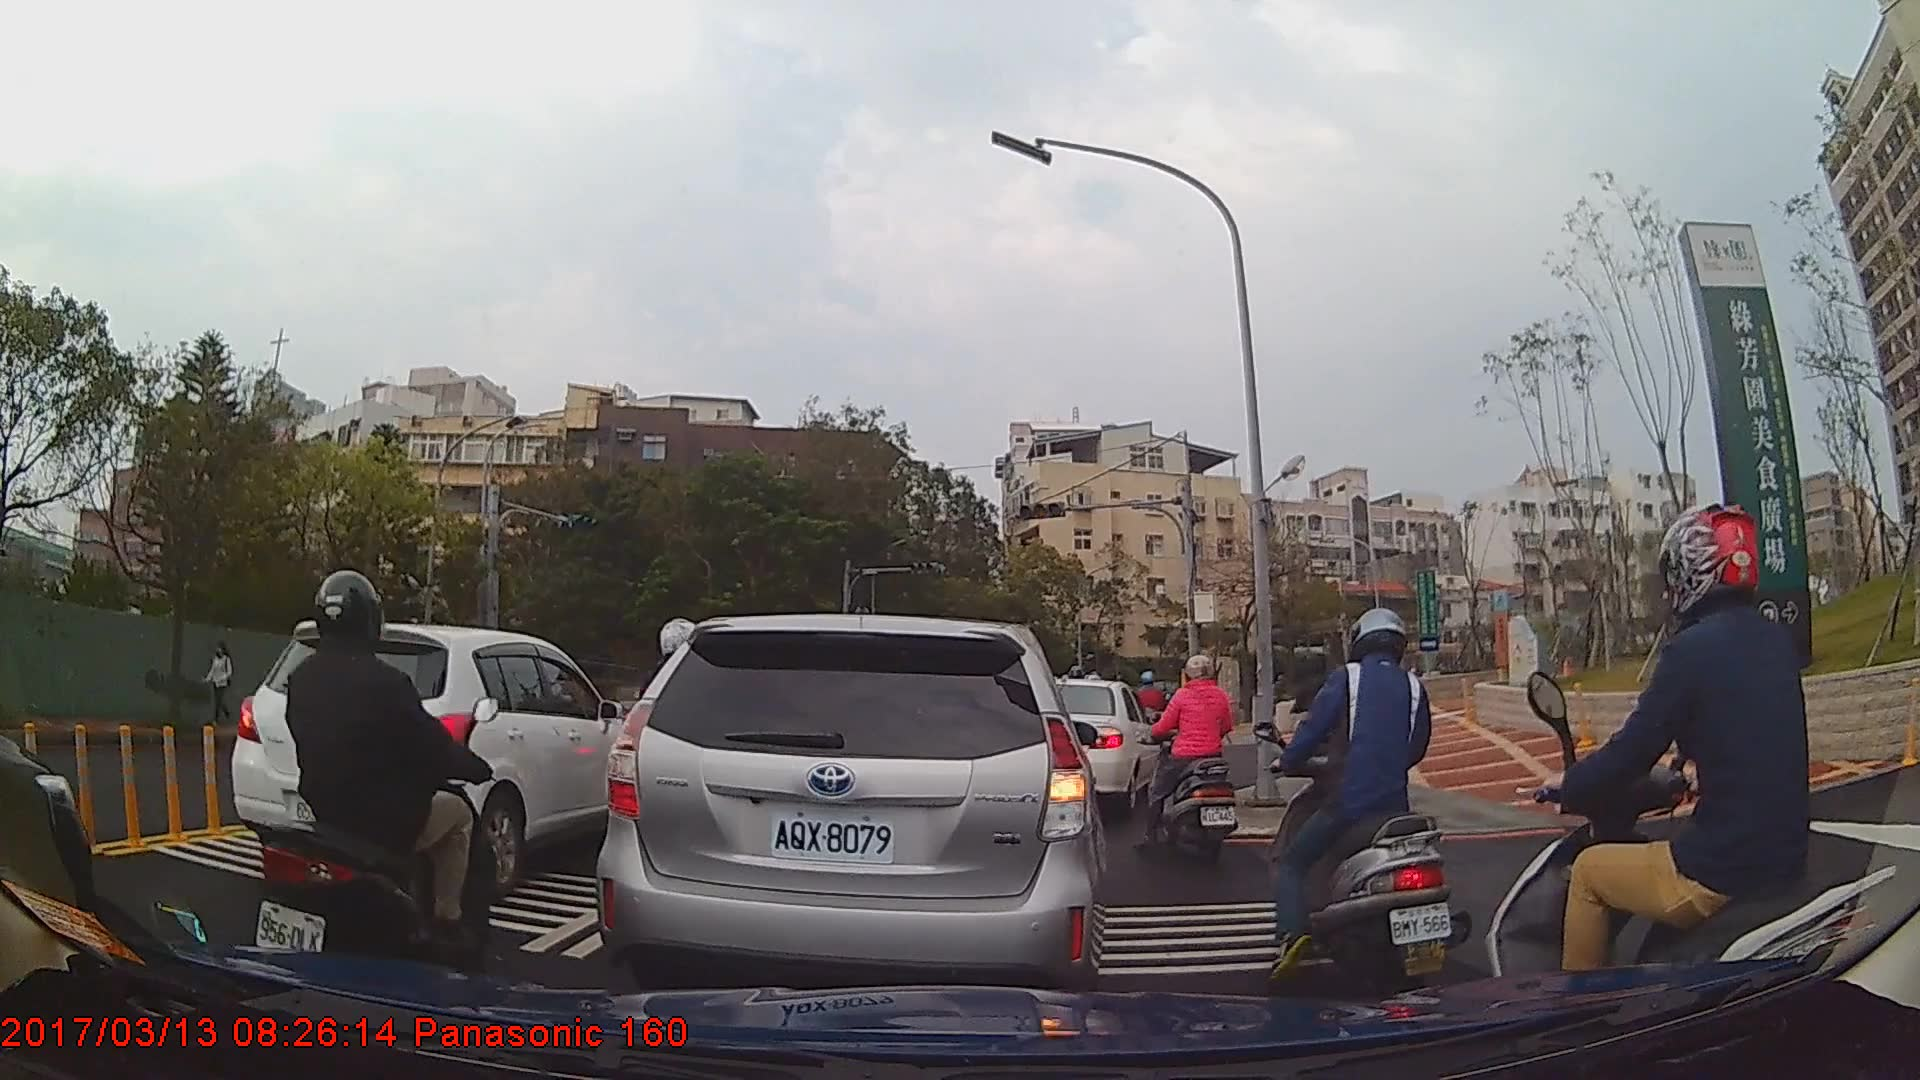pedestrian: (203, 643, 238, 722)
rider: (1480, 505, 1896, 1057), (255, 569, 507, 1009), (1263, 607, 1458, 993), (1132, 653, 1240, 864)
vehicle: (595, 614, 1107, 1004), (241, 618, 636, 891), (1050, 678, 1159, 811)
